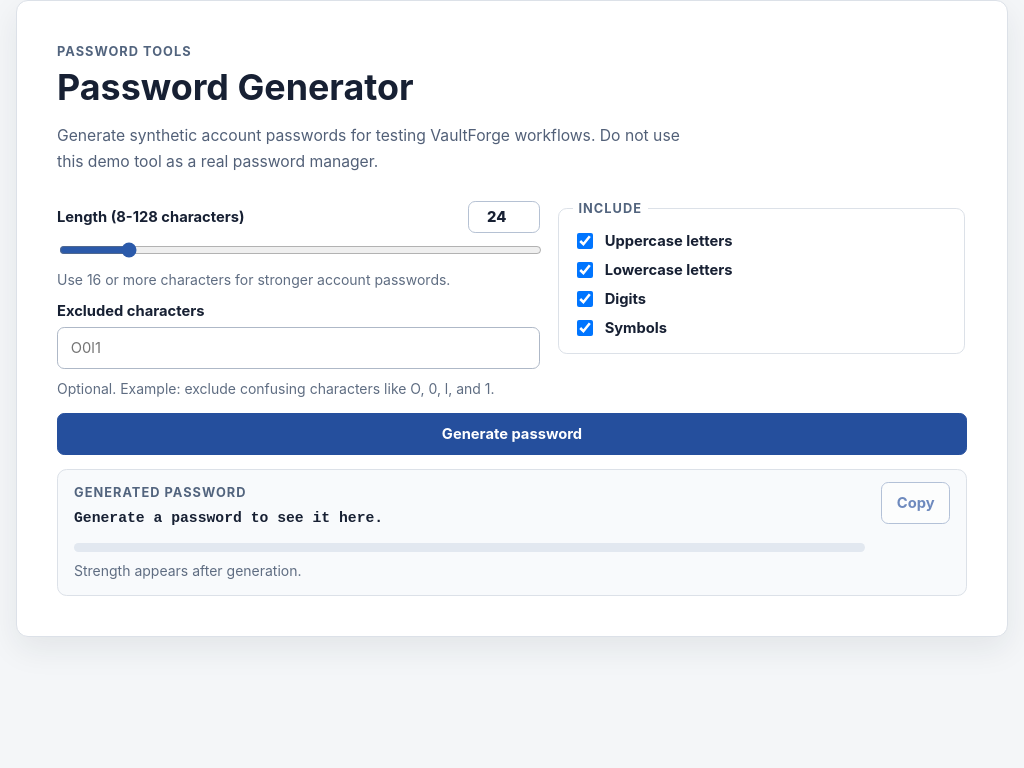
Test case: PasswordGeneratorPage › displays API errors safely
The width and height of the screenshot is (1024, 768).
Click the button "Generate password".
click(512, 434)  # box [57,413,967,455]
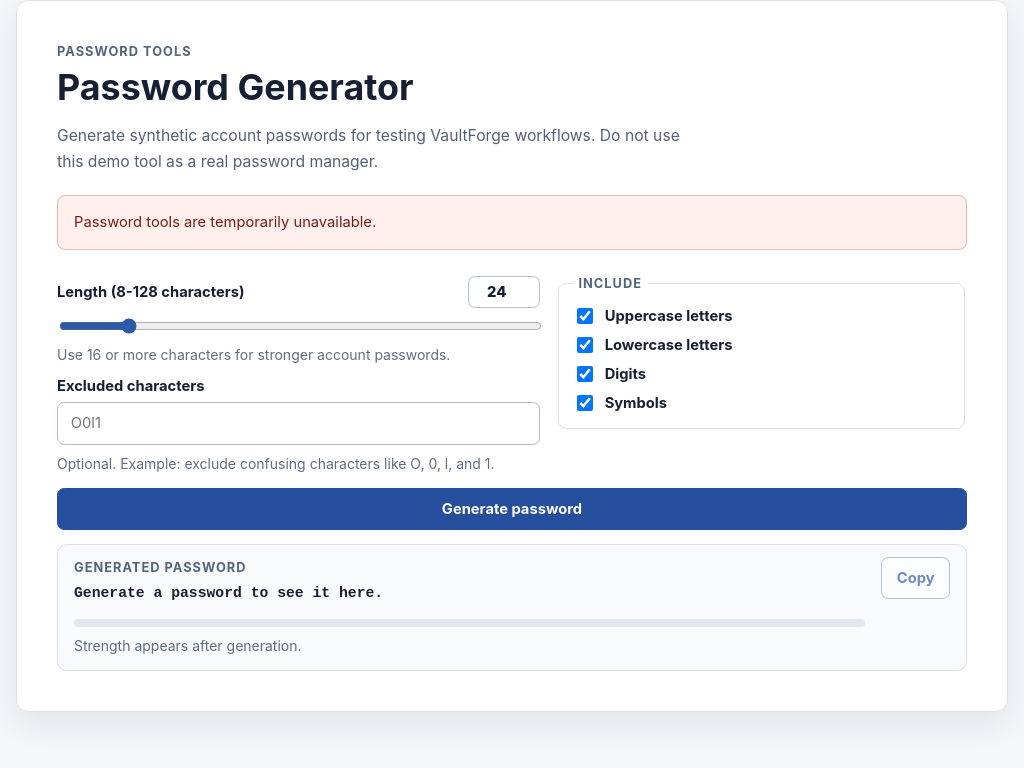
Expected: the message "Password tools are temporarily unavailable." is shown, [57,195,967,250]
